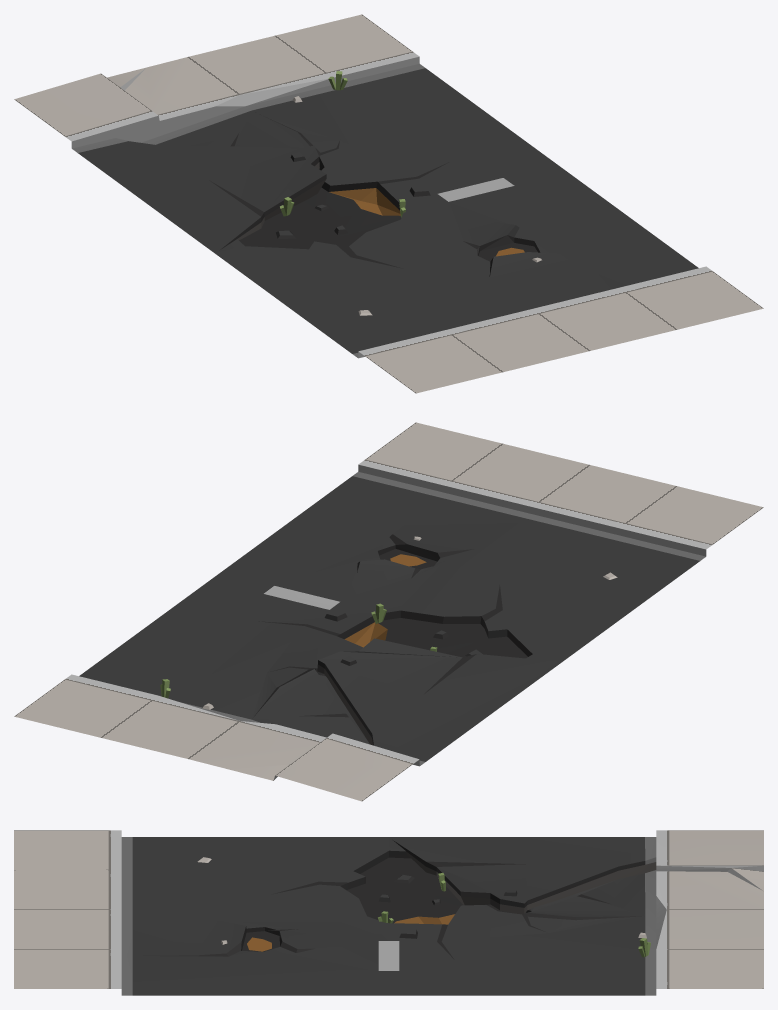
File: SA_Env_RoadStraight_Damaged_01.glb
3 views of the same model, one above another, from view 1: azimuth 30°, elevation 25°; view 2: azimuth 150°, elevation 25°; view 3: azimuth 270°, elevation 25° (orthographic). The views are drawn at different scales.
Visible parts, largest first — view 1: SA_Env_RoadStraight_Damaged_01; view 2: SA_Env_RoadStraight_Damaged_01; view 3: SA_Env_RoadStraight_Damaged_01.
Boxes of the visible parts, x1=… form: SA_Env_RoadStraight_Damaged_01: x1=14, y1=14, x2=763, y2=393; SA_Env_RoadStraight_Damaged_01: x1=14, y1=422, x2=763, y2=801; SA_Env_RoadStraight_Damaged_01: x1=14, y1=830, x2=763, y2=995.
Bounding box in the file's own units: 4.2 × 0.3995 × 8.4.
1 material, 1 textured.
